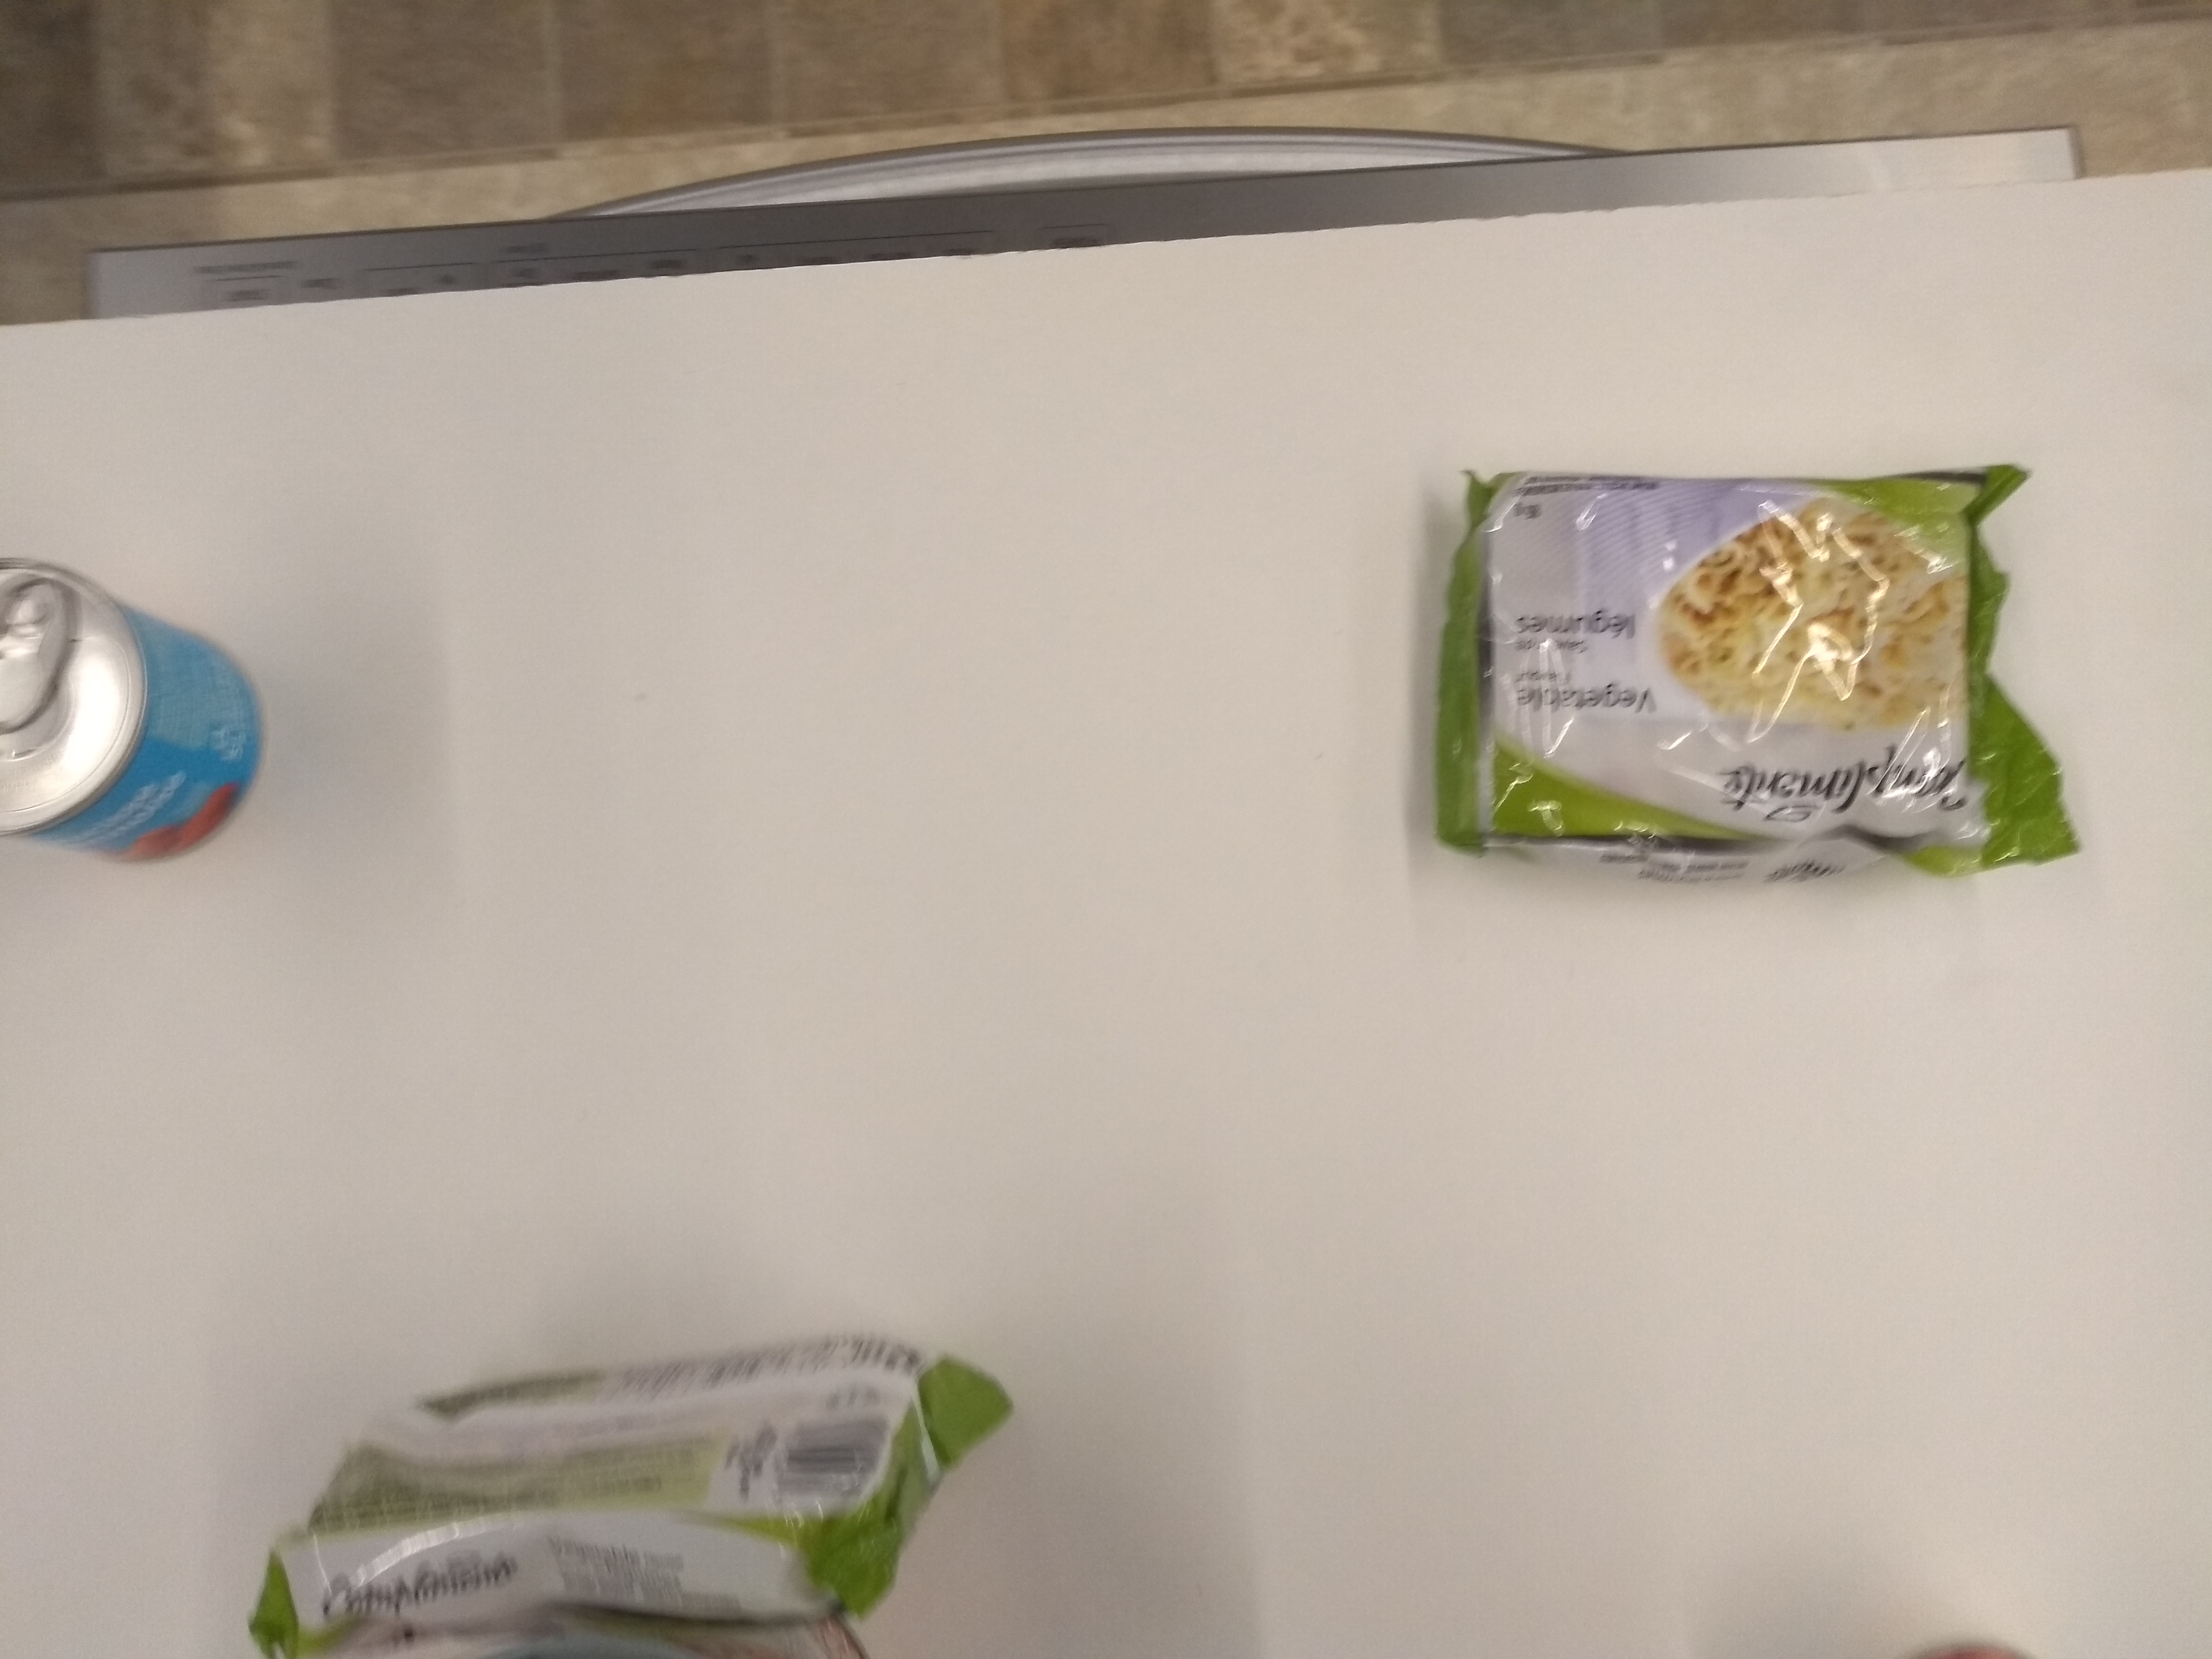noodles: (1400, 446, 2088, 903)
